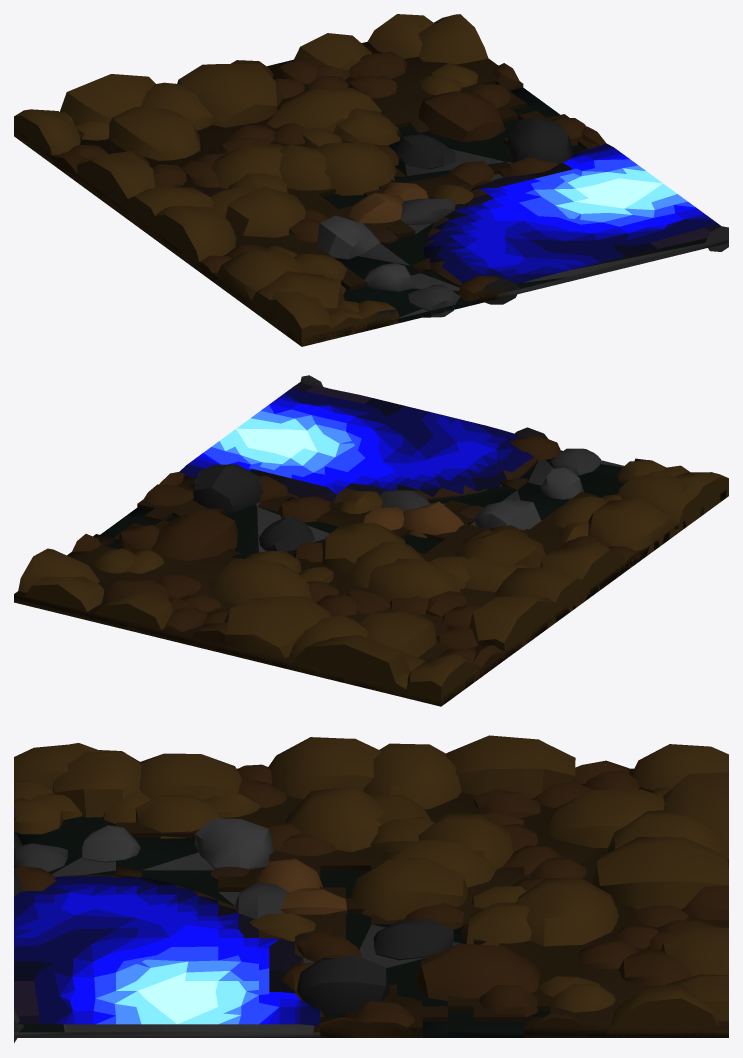
The model's file is holes_rocks_tl_damaged.glb.
3 renders of one model, top to bottom at view 1: azimuth 30°, elevation 25°; view 2: azimuth 150°, elevation 25°; view 3: azimuth 270°, elevation 25°, orthographic. The views are drawn at different scales.
Visible parts, largest first — view 1: holes_rocks_tl_damaged_pool, holes_rocks_tl_damaged_dirt_base, holes_rocks_tl_damaged_pit, holes_rocks_tl_damaged_dirt_39, holes_rocks_tl_damaged_dirt_58, holes_rocks_tl_damaged_dirt_53, holes_rocks_tl_damaged_dirt_67, holes_rocks_tl_damaged_dirt_56, holes_rocks_tl_damaged_dirt_23, holes_rocks_tl_damaged_dirt_65, holes_rocks_tl_damaged_dirt_19, holes_rocks_tl_damaged_dirt_87 (+43 smaller); view 2: holes_rocks_tl_damaged_pool, holes_rocks_tl_damaged_dirt_base, holes_rocks_tl_damaged_pit, holes_rocks_tl_damaged_dirt_39, holes_rocks_tl_damaged_dirt_23, holes_rocks_tl_damaged_dirt_6, holes_rocks_tl_damaged_dirt_56, holes_rocks_tl_damaged_dirt_67, holes_rocks_tl_damaged_dirt_19, holes_rocks_tl_damaged_dirt_11, holes_rocks_tl_damaged_dirt_83, holes_rocks_tl_damaged_stone5 (+42 smaller); view 3: holes_rocks_tl_damaged_pool, holes_rocks_tl_damaged_dirt_base, holes_rocks_tl_damaged_pit, holes_rocks_tl_damaged_dirt_39, holes_rocks_tl_damaged_dirt_56, holes_rocks_tl_damaged_dirt_19, holes_rocks_tl_damaged_dirt_65, holes_rocks_tl_damaged_dirt_67, holes_rocks_tl_damaged_dirt_53, holes_rocks_tl_damaged_dirt_83, holes_rocks_tl_damaged_dirt_58, holes_rocks_tl_damaged_dirt_87 (+55 smaller).
Boxes of the visible parts, <box> form: holes_rocks_tl_damaged_pool: <box>371,143,721,287</box>; holes_rocks_tl_damaged_dirt_base: <box>14,41,598,345</box>; holes_rocks_tl_damaged_pit: <box>322,84,728,324</box>; holes_rocks_tl_damaged_dirt_39: <box>177,64,283,127</box>; holes_rocks_tl_damaged_dirt_58: <box>108,107,200,160</box>; holes_rocks_tl_damaged_dirt_53: <box>146,205,236,272</box>; holes_rocks_tl_damaged_dirt_67: <box>418,91,505,141</box>; holes_rocks_tl_damaged_dirt_56: <box>77,151,159,222</box>; holes_rocks_tl_damaged_dirt_23: <box>60,74,155,125</box>; holes_rocks_tl_damaged_dirt_65: <box>317,142,396,195</box>; holes_rocks_tl_damaged_dirt_19: <box>267,88,381,132</box>; holes_rocks_tl_damaged_dirt_87: <box>225,186,306,237</box>; holes_rocks_tl_damaged_pool: <box>179,382,537,520</box>; holes_rocks_tl_damaged_dirt_base: <box>14,475,727,706</box>; holes_rocks_tl_damaged_pit: <box>100,450,623,558</box>; holes_rocks_tl_damaged_dirt_39: <box>224,596,331,664</box>; holes_rocks_tl_damaged_dirt_23: <box>286,635,410,696</box>; holes_rocks_tl_damaged_dirt_6: <box>588,499,684,555</box>; holes_rocks_tl_damaged_dirt_56: <box>469,596,559,659</box>; holes_rocks_tl_damaged_dirt_67: <box>151,509,237,560</box>; holes_rocks_tl_damaged_dirt_19: <box>209,558,311,604</box>; holes_rocks_tl_damaged_dirt_11: <box>368,558,460,601</box>; holes_rocks_tl_damaged_dirt_83: <box>495,566,590,628</box>; holes_rocks_tl_damaged_stone5: <box>193,464,262,512</box>; holes_rocks_tl_damaged_pool: <box>14,866,324,1025</box>; holes_rocks_tl_damaged_dirt_base: <box>116,768,728,1037</box>; holes_rocks_tl_damaged_pit: <box>14,816,550,1037</box>; holes_rocks_tl_damaged_dirt_39: <box>591,837,728,909</box>; holes_rocks_tl_damaged_dirt_56: <box>446,735,575,798</box>; holes_rocks_tl_damaged_dirt_19: <box>516,878,618,946</box>; holes_rocks_tl_damaged_dirt_65: <box>349,857,468,920</box>; holes_rocks_tl_damaged_dirt_67: <box>415,943,540,1001</box>; holes_rocks_tl_damaged_dirt_53: <box>268,737,381,799</box>; holes_rocks_tl_damaged_dirt_83: <box>363,743,461,809</box>; holes_rocks_tl_damaged_dirt_58: <box>546,789,664,847</box>; holes_rocks_tl_damaged_dirt_87: <box>285,785,384,852</box>.
Bounding box in the file's own units: 23.98 × 3.24 × 27.98.
